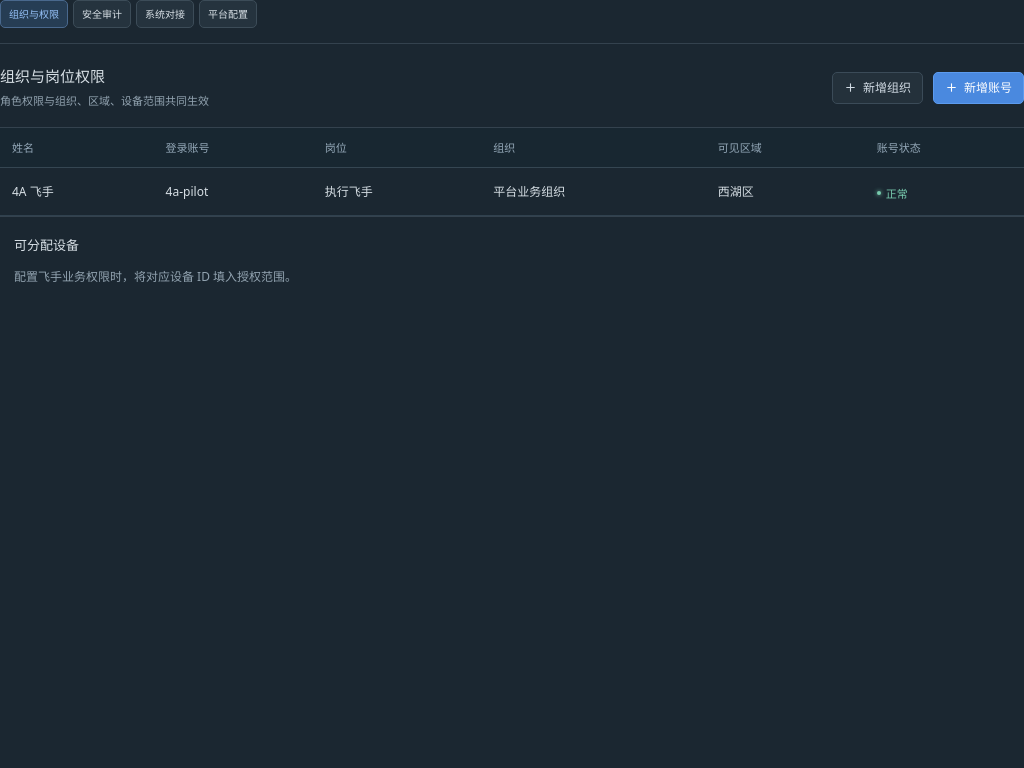
Scenario: 4A identity and independent platform business access › retains local account creation only in explicit local mode
The width and height of the screenshot is (1024, 768).
What coordinates should you click on to do the following:
click the button "新增账号"
I would click on:
 (978, 88)
Its box is 933,72 -> 1023,104.
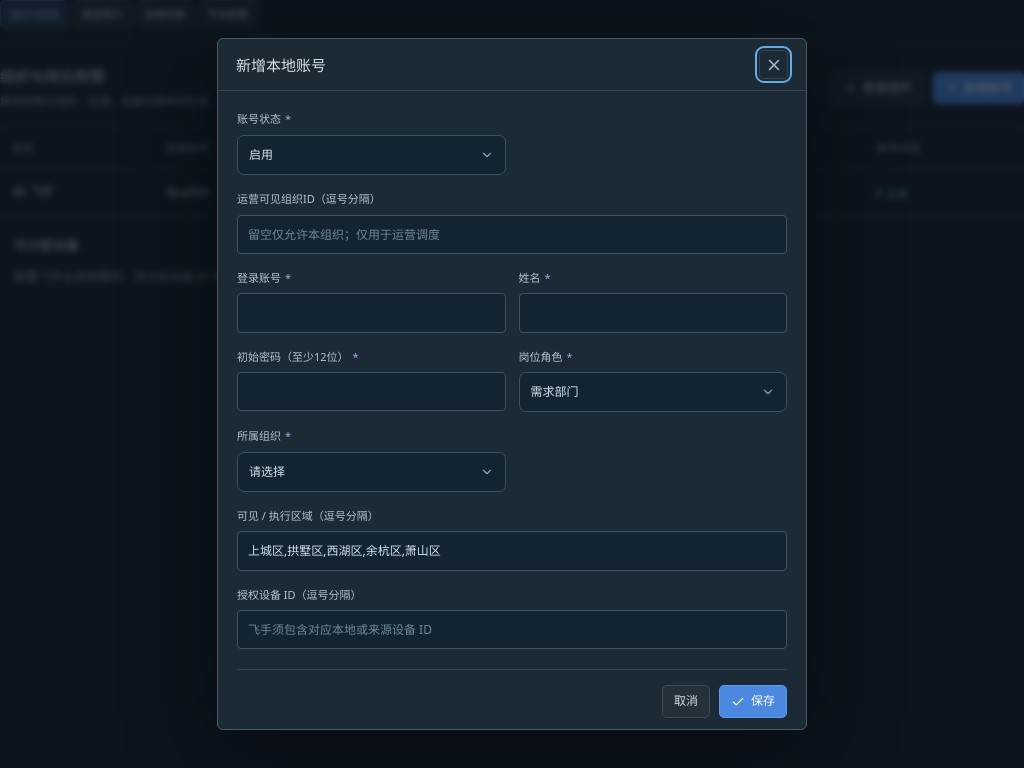
Result: the field labelled "登录账号*" is shown at 237,293 -> 506,333
Result: the password field labelled "初始密码（至少12位）*" is shown at 237,372 -> 506,411
